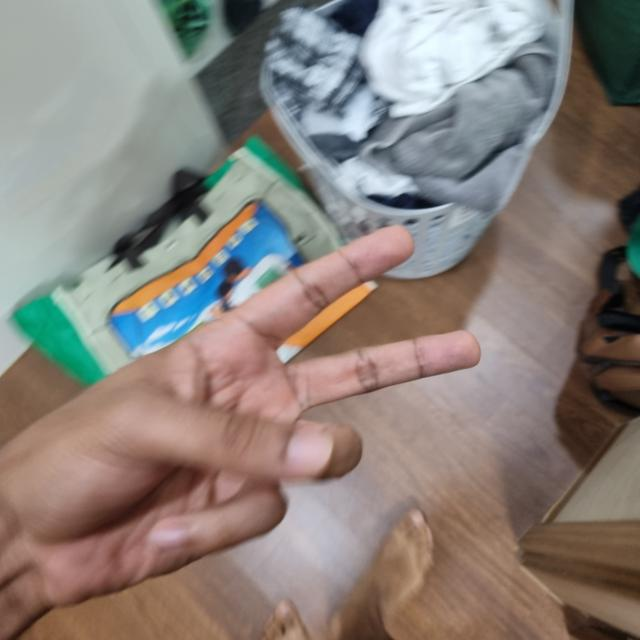Scissors: (0, 233, 481, 635)
